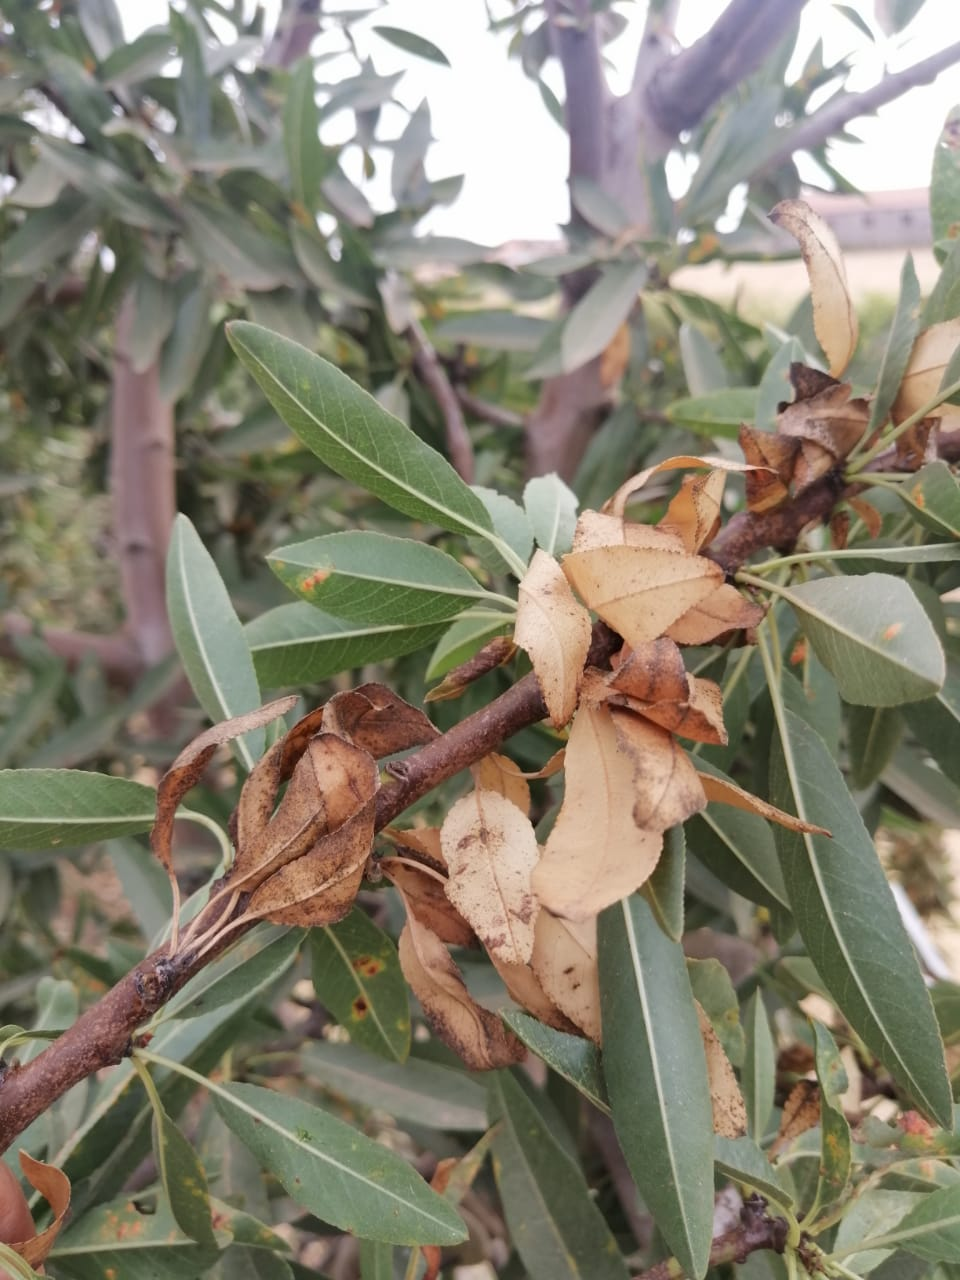scolytes: (151, 195, 960, 1140)
